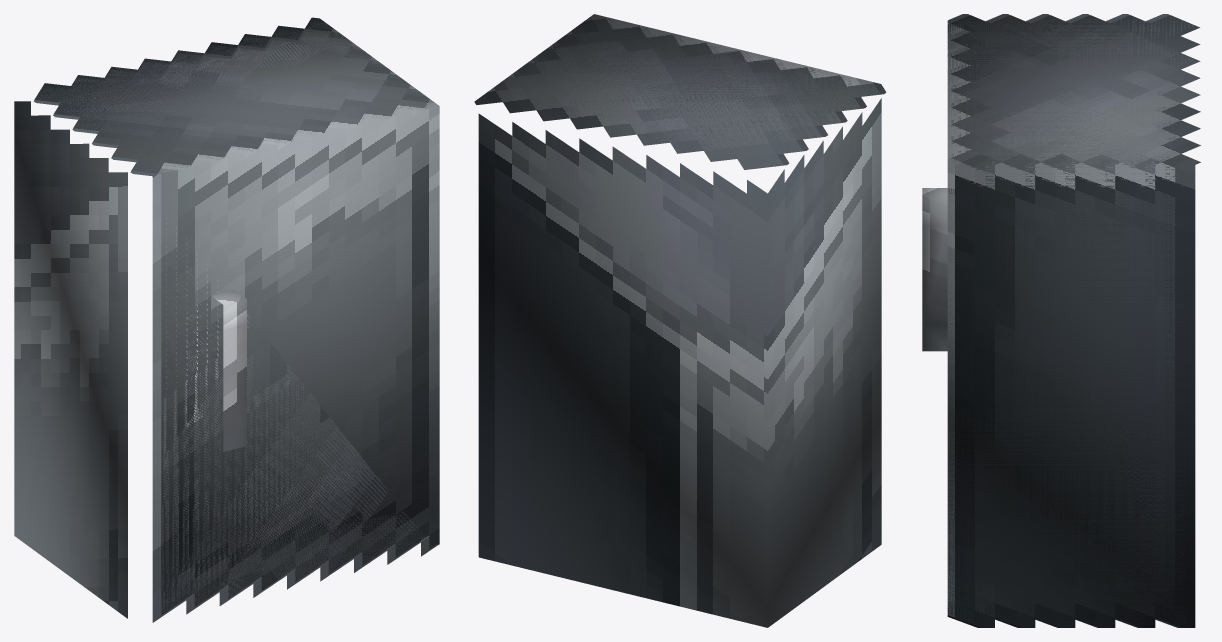
File: SafeBox.glb
The picture shows the model from 3 angles, left to right: view 1: azimuth 30°, elevation 25°; view 2: azimuth 150°, elevation 25°; view 3: azimuth 270°, elevation 25°; orthographic projection. The views are drawn at different scales.
Visible parts, largest first — view 1: 2DBG_RewardBoxes_Safe_F, 2DBG_RewardBoxes_Safe_B; view 2: 2DBG_RewardBoxes_Safe_F, 2DBG_RewardBoxes_Safe_B; view 3: 2DBG_RewardBoxes_Safe_F, 2DBG_RewardBoxes_Safe_B.
Boxes of the visible parts, x1=… form: 2DBG_RewardBoxes_Safe_F: x1=14, y1=17, x2=439, y2=618; 2DBG_RewardBoxes_Safe_B: x1=33, y1=21, x2=439, y2=622; 2DBG_RewardBoxes_Safe_F: x1=474, y1=14, x2=881, y2=627; 2DBG_RewardBoxes_Safe_B: x1=482, y1=14, x2=886, y2=168; 2DBG_RewardBoxes_Safe_F: x1=947, y1=15, x2=1200, y2=627; 2DBG_RewardBoxes_Safe_B: x1=922, y1=14, x2=1193, y2=627.
Size of the model in its own units: 0.5433 by 0.7773 by 0.4345.
Materials: 1 (1 with a texture image).
